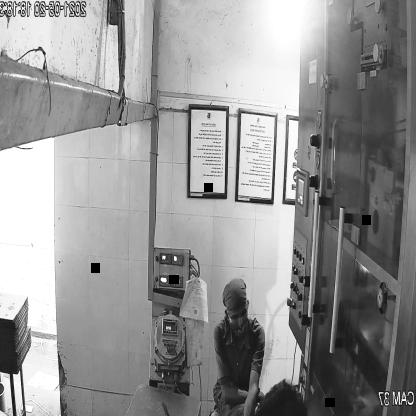goggles: (225, 303, 251, 328)
